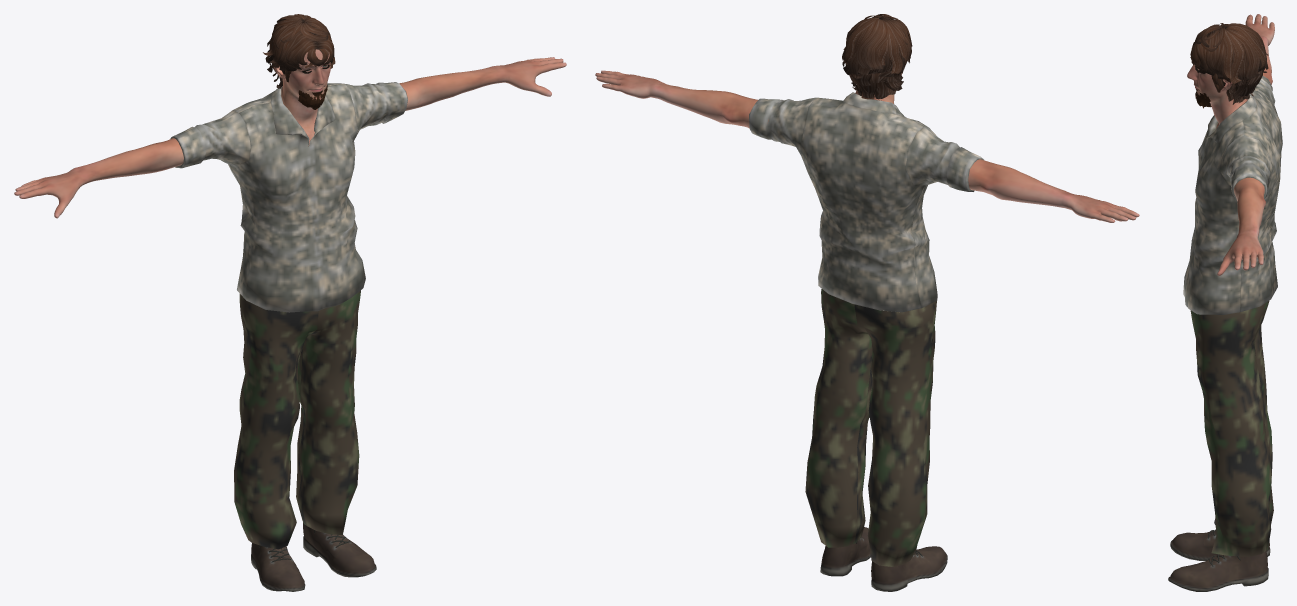
The model's file is BGMale4.obj.
3 renders of one model, left to right at view 1: azimuth 30°, elevation 25°; view 2: azimuth 150°, elevation 25°; view 3: azimuth 270°, elevation 25°, orthographic. The views are drawn at different scales.
Visible parts, largest first — view 1: Tops, Bottoms, Body, Shoes, Hair; view 2: Bottoms, Tops, Body, Hair, Shoes; view 3: Bottoms, Tops, Body, Hair, Shoes, Beards.
Part boxes in pixels (x1=…): Tops: x1=170, y1=82, x2=407, y2=312; Bottoms: x1=234, y1=290, x2=360, y2=549; Body: x1=14, y1=49, x2=566, y2=218; Shoes: x1=251, y1=522, x2=376, y2=591; Hair: x1=263, y1=14, x2=335, y2=88; Bottoms: x1=805, y1=289, x2=936, y2=566; Tops: x1=749, y1=92, x2=983, y2=312; Body: x1=595, y1=70, x2=1139, y2=222; Hair: x1=842, y1=14, x2=912, y2=99; Shoes: x1=820, y1=527, x2=947, y2=591; Bottoms: x1=1190, y1=301, x2=1273, y2=556; Tops: x1=1183, y1=76, x2=1282, y2=314; Body: x1=1187, y1=14, x2=1274, y2=275; Hair: x1=1190, y1=23, x2=1268, y2=104; Shoes: x1=1168, y1=529, x2=1270, y2=591; Beards: x1=1195, y1=89, x2=1211, y2=108.
Size of the model in its own units: 195 by 189 by 36.19.
1 material, 1 textured.
